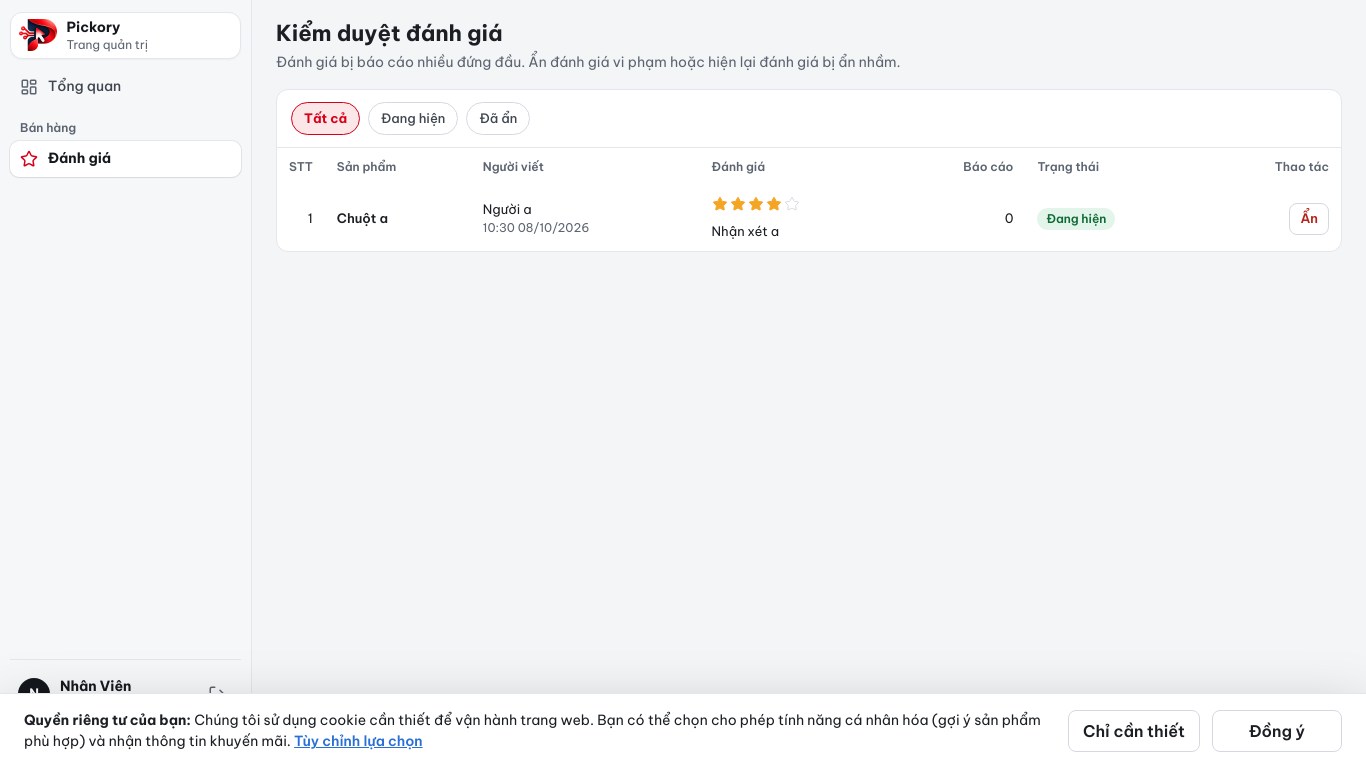
it: AdminReviewsPage › ẩn: chọn lý do rồi xác nhận gửi PATCH đúng body và tải lại danh sách
Click the button "Ẩn": coordinates (1309, 218) top-left (1290, 202), bottom-right (1329, 234)
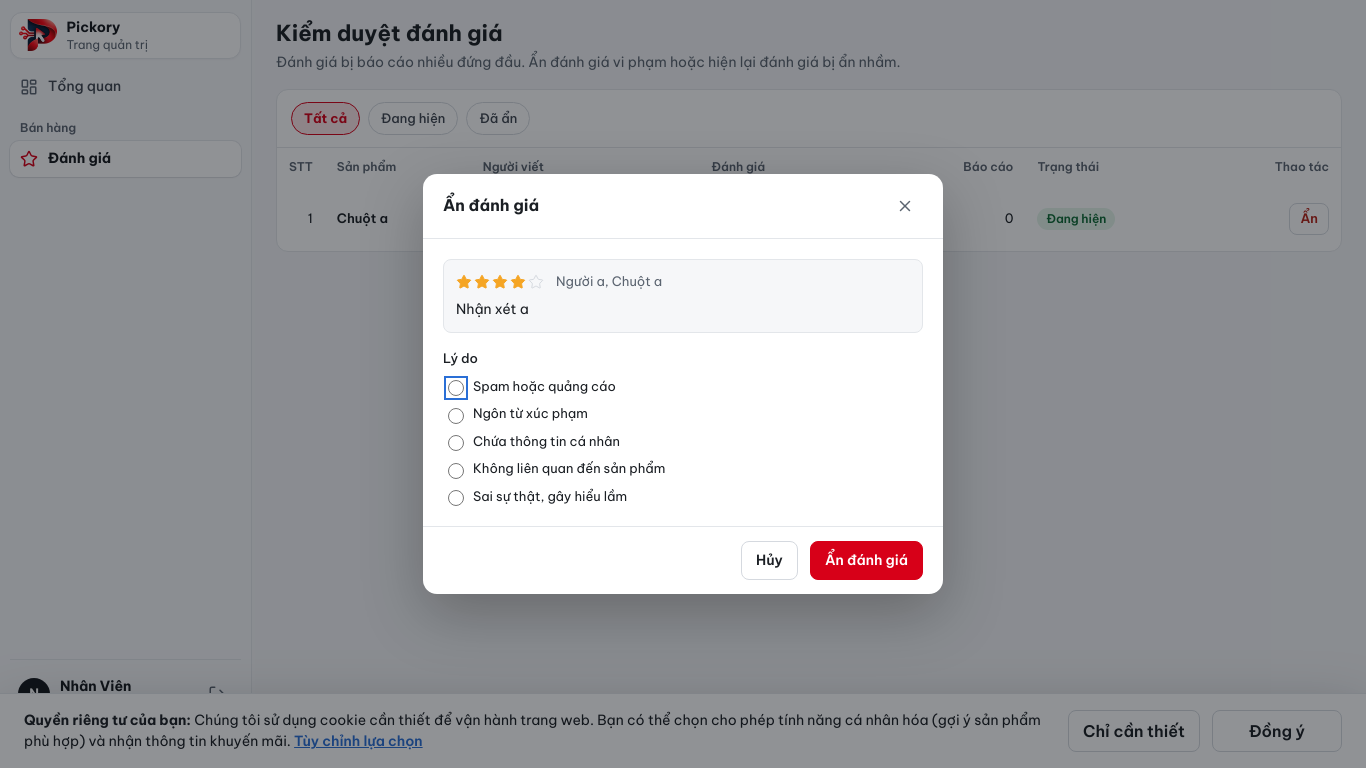
Click the radio button labelled "Ngôn từ xúc phạm": coordinates (456, 416) top-left (448, 408), bottom-right (464, 424)
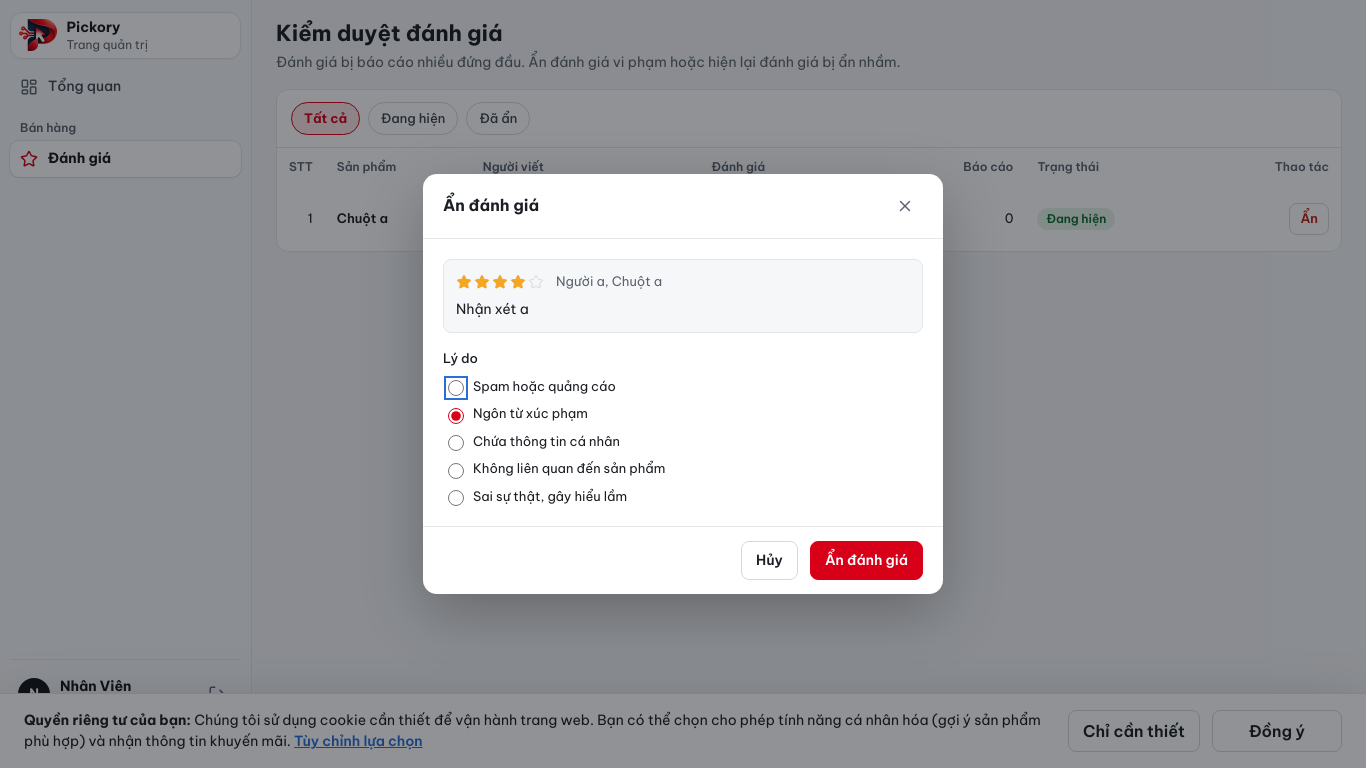
Click the button "Ẩn đánh giá": coordinates (866, 561) top-left (810, 541), bottom-right (923, 580)
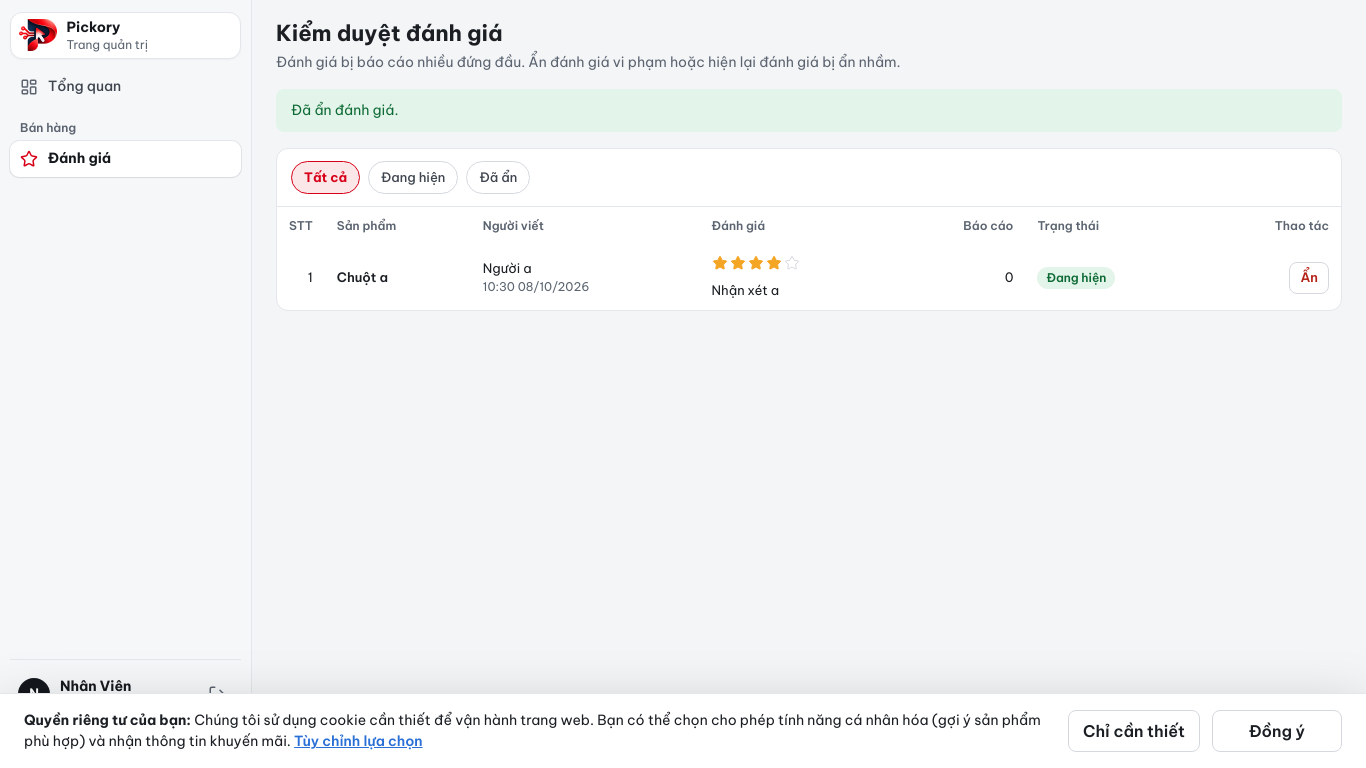
expect the message "Đã ẩn đánh giá." is shown: met, box top-left (276, 88), bottom-right (1342, 132)
